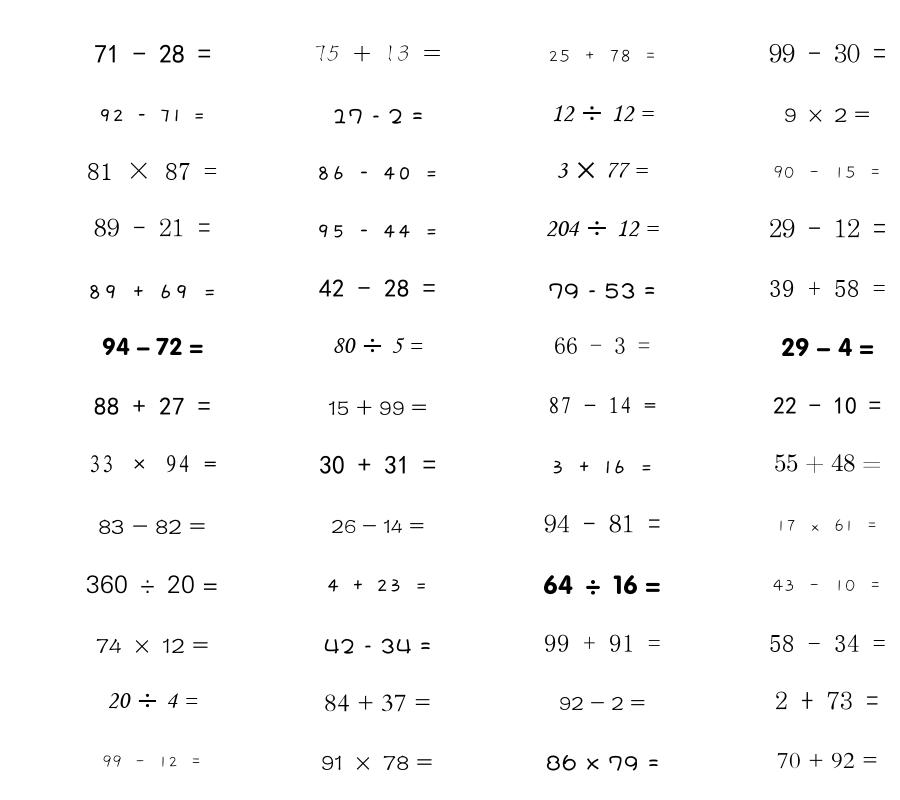MQ: (86, 575, 218, 594), (543, 575, 661, 595), (769, 43, 886, 63), (87, 162, 217, 180), (769, 218, 886, 238), (319, 455, 436, 475), (88, 455, 217, 473), (94, 44, 211, 63), (94, 218, 211, 237), (544, 514, 661, 533), (314, 45, 441, 62), (774, 454, 881, 474), (319, 279, 436, 297), (94, 397, 211, 415), (544, 634, 661, 652), (769, 634, 886, 652), (769, 280, 886, 297), (775, 691, 879, 710), (87, 284, 217, 299), (548, 396, 656, 414), (773, 397, 881, 415), (545, 220, 659, 237), (324, 694, 431, 712), (546, 754, 659, 771), (102, 337, 203, 356), (781, 337, 874, 357), (96, 638, 209, 654), (551, 105, 654, 122), (548, 283, 656, 299), (777, 752, 878, 769), (324, 638, 431, 654), (316, 166, 438, 180), (316, 224, 438, 238), (328, 399, 427, 416), (321, 755, 433, 770), (554, 337, 650, 354), (98, 519, 206, 534), (556, 162, 648, 179), (548, 49, 657, 63), (773, 165, 882, 179), (332, 108, 423, 124), (332, 337, 423, 353), (107, 693, 198, 709), (551, 460, 653, 474), (773, 579, 882, 592), (98, 109, 206, 122), (331, 519, 424, 534), (776, 519, 878, 532), (326, 579, 428, 592), (102, 755, 202, 768), (784, 108, 870, 122), (559, 696, 645, 710)
